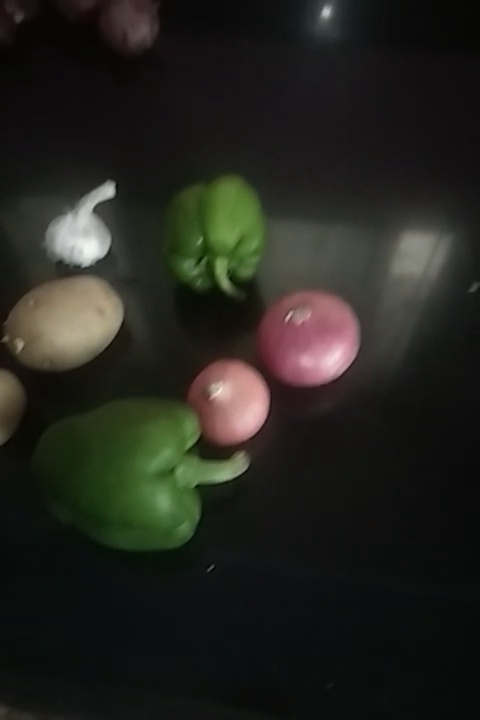capsicum: (33, 396, 230, 560), (164, 162, 261, 304)
garlic: (43, 180, 124, 279)
onion: (258, 285, 365, 391), (195, 358, 270, 452), (106, 1, 159, 55)
potato: (1, 274, 129, 377), (1, 367, 30, 444)
